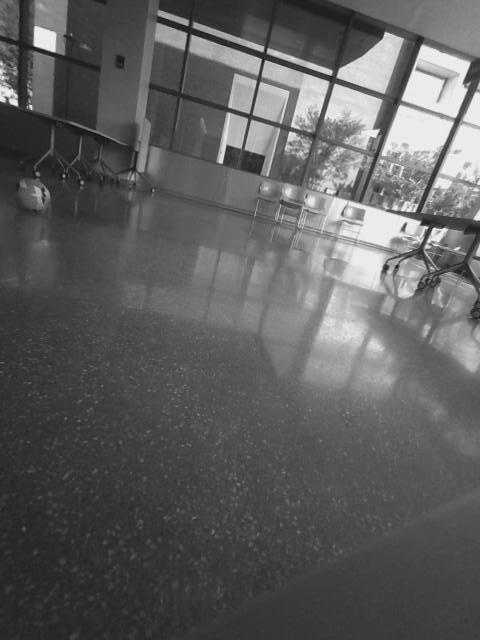ball: (12, 175, 54, 216)
